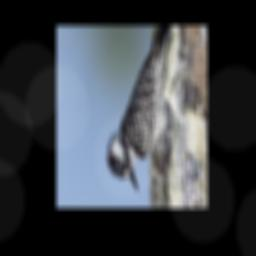Woodpecker: (106, 29, 189, 197)
